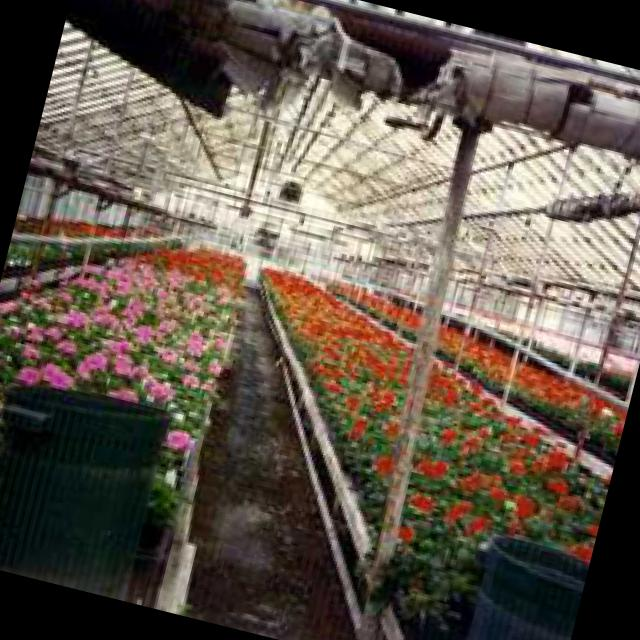bucket crop: (0, 384, 176, 594)
bucket occluded: (471, 533, 588, 640)
flowers in pot: (265, 262, 607, 638), (0, 243, 248, 597), (324, 282, 627, 450), (7, 214, 188, 273)
